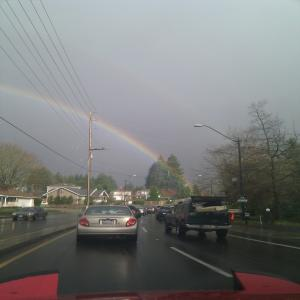Vehicle-registration-plate: (103, 221, 116, 226)
